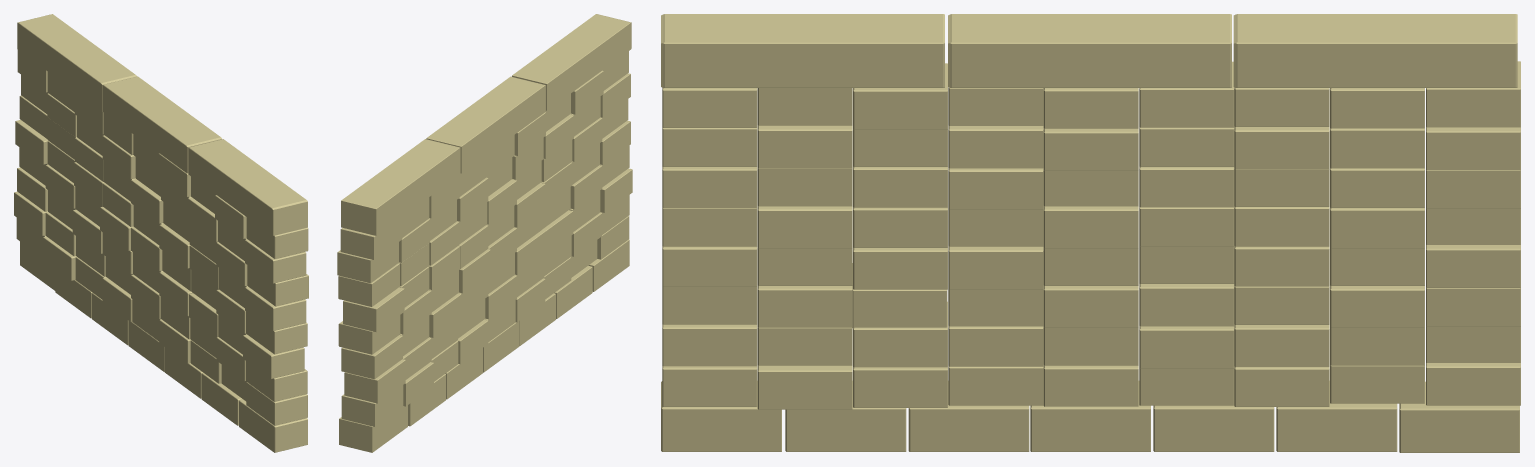
Rendered from Wall-1.FBX.
3 views of the same model, side by side, from view 1: azimuth 30°, elevation 25°; view 2: azimuth 150°, elevation 25°; view 3: azimuth 270°, elevation 25° (orthographic). The views are drawn at different scales.
Parts seen in each view (by area): view 1: Wall-1; view 2: Wall-1; view 3: Wall-1.
Boxes of the visible parts, box(x1,y1,x2,y2) form: Wall-1: box(14, 14, 308, 452); Wall-1: box(337, 14, 632, 452); Wall-1: box(661, 14, 1520, 452).
Size of the model in its own units: 112 by 634 by 1207.
